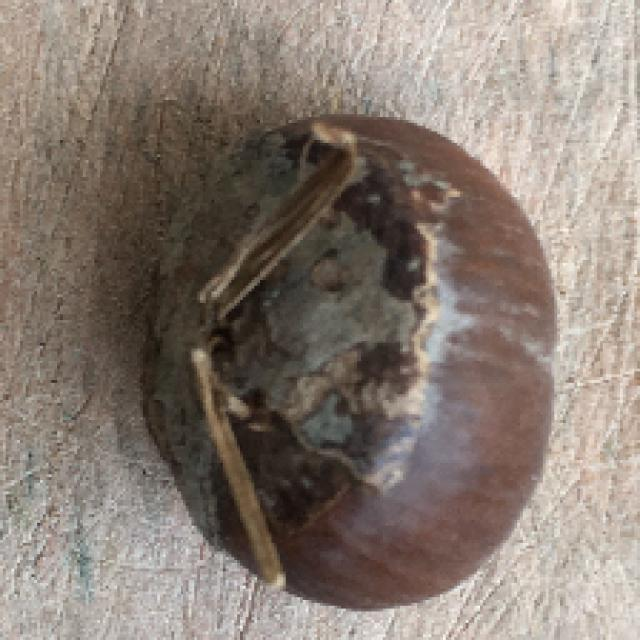damagedHazelnut: (143, 117, 558, 605)
